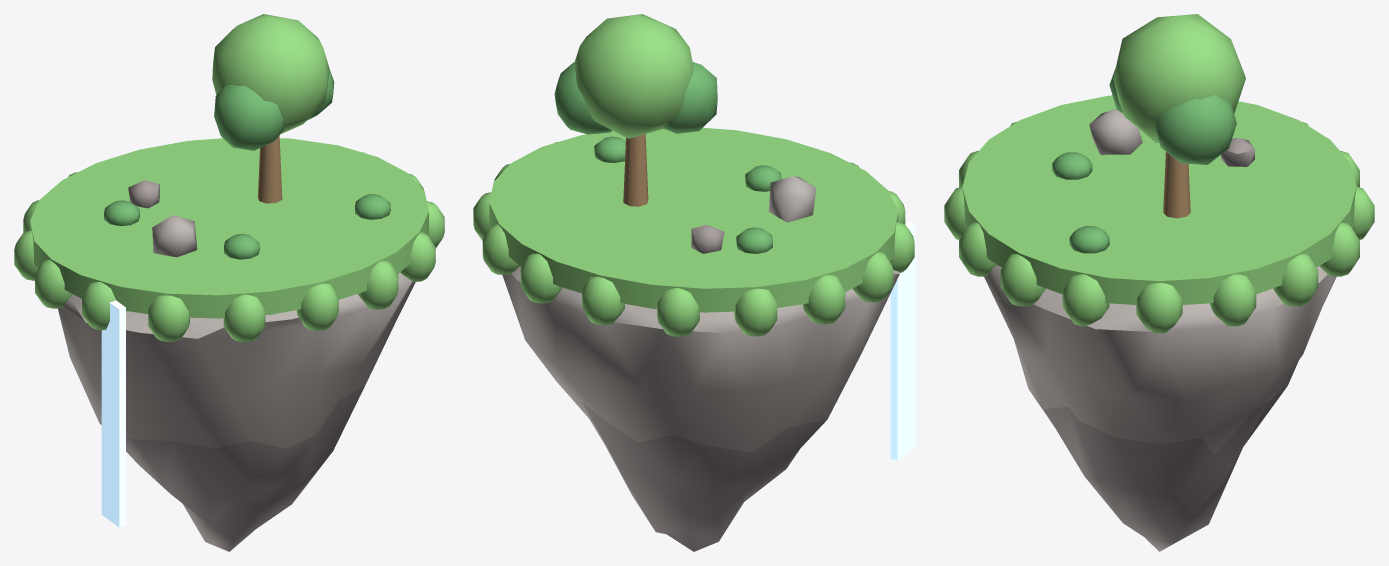
Rendered from floating_island.glb.
3 renders of one model, left to right at view 1: azimuth 30°, elevation 25°; view 2: azimuth 150°, elevation 25°; view 3: azimuth 270°, elevation 25°, orthographic. The views are drawn at different scales.
Visible parts, largest first — view 1: FloatingIsland; view 2: FloatingIsland; view 3: FloatingIsland.
Boxes of the visible parts, left/top/right/bottom form: FloatingIsland: left=14, top=14, right=444, bottom=551; FloatingIsland: left=473, top=14, right=915, bottom=551; FloatingIsland: left=944, top=14, right=1374, bottom=551.
Bounding box in the file's own units: 2.75 × 3.55 × 2.47.
